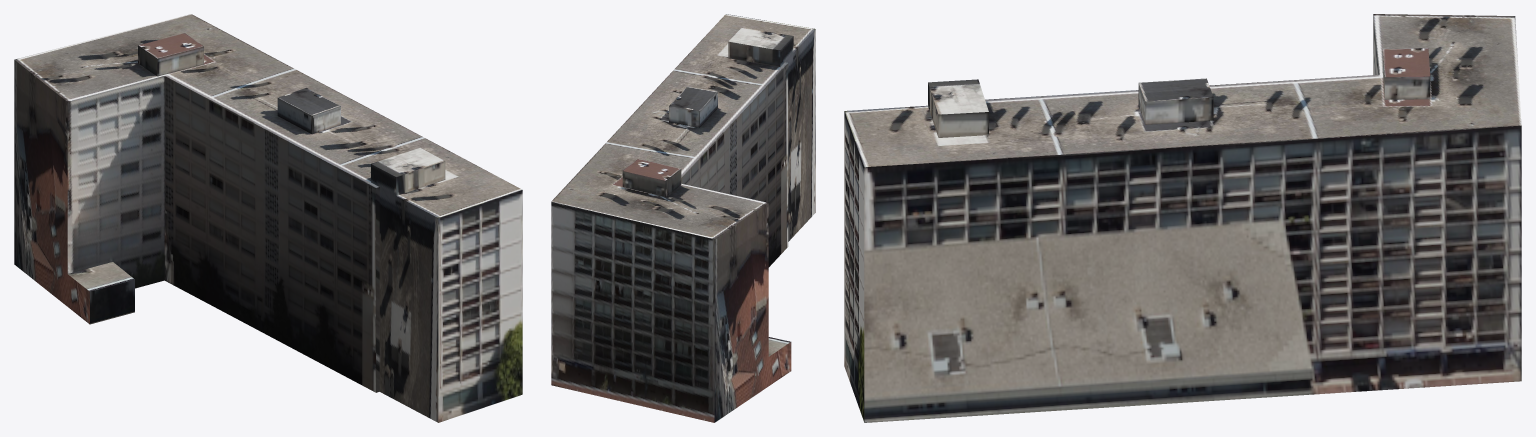
The picture shows the model from 3 angles, left to right: view 1: azimuth 30°, elevation 25°; view 2: azimuth 150°, elevation 25°; view 3: azimuth 270°, elevation 25°; orthographic projection. The views are drawn at different scales.
Visible parts, largest first — view 1: Z_UP; view 2: Z_UP; view 3: Z_UP.
Part boxes in pixels (x1,y1,x2,y2): Z_UP: (14,14,522,422); Z_UP: (551,14,815,422); Z_UP: (844,14,1521,422).
Size of the model in its own units: 32.19 by 27.18 by 59.75.
2 materials, 1 textured.
